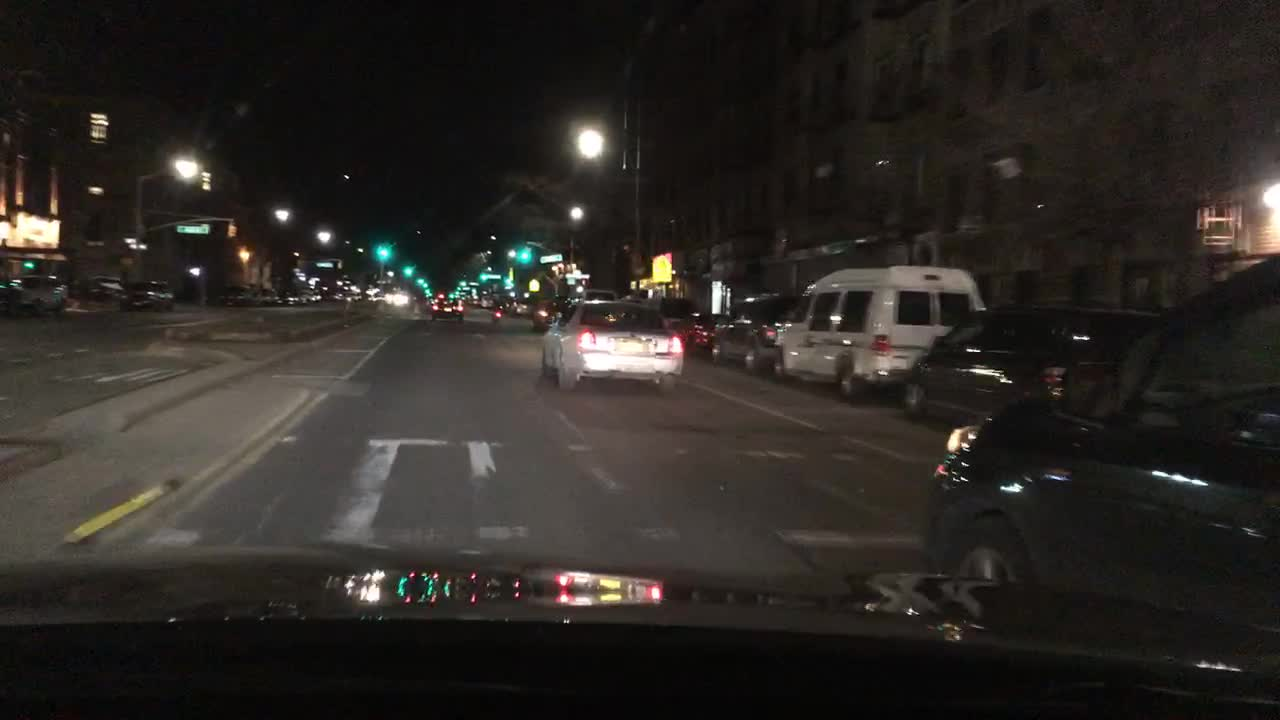car: (926, 250, 1279, 630), (903, 299, 1161, 429), (777, 264, 983, 402), (538, 297, 686, 396), (710, 293, 810, 373), (673, 313, 732, 361), (396, 652, 517, 668), (20, 274, 69, 313), (120, 278, 173, 313), (617, 293, 694, 317), (530, 295, 572, 331), (429, 293, 466, 322), (0, 277, 22, 320), (383, 289, 418, 314), (220, 287, 252, 309), (576, 288, 614, 304), (506, 299, 537, 318), (252, 288, 279, 309), (299, 289, 322, 303), (494, 293, 512, 309), (479, 293, 497, 309), (281, 290, 299, 306), (326, 290, 344, 301), (346, 288, 361, 300), (466, 296, 479, 307)
traffic light: (376, 246, 390, 259), (518, 248, 530, 263), (227, 223, 236, 237), (402, 265, 412, 276), (478, 272, 487, 281), (416, 279, 424, 286)
traffic sign: (175, 224, 209, 233), (540, 253, 560, 261), (488, 273, 499, 279)
